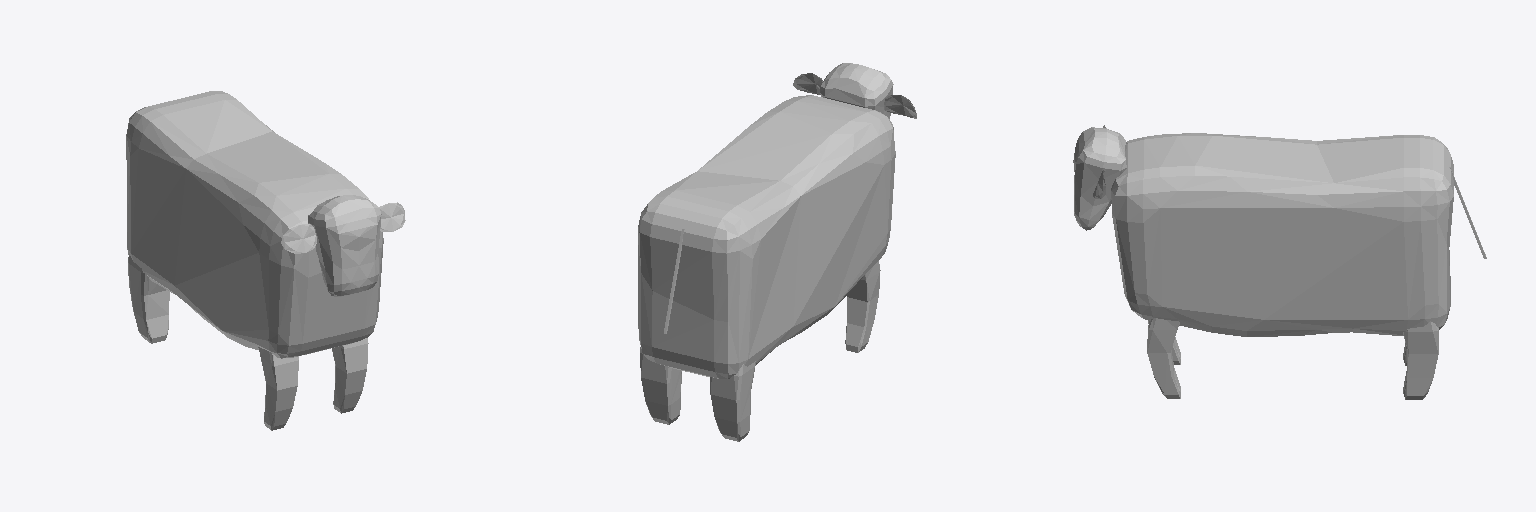
Rendered from cow.obj.
3 renders of one model, left to right at view 1: azimuth 30°, elevation 25°; view 2: azimuth 150°, elevation 25°; view 3: azimuth 270°, elevation 25°, orthographic.
Visible parts, largest first — view 1: Cow; view 2: Cow; view 3: Cow.
Boxes of the visible parts, box(x1,y1,x2,y2) form: Cow: box(126, 91, 405, 430); Cow: box(638, 63, 916, 441); Cow: box(1073, 125, 1486, 399).
Size of the model in its own units: 2.69 by 5.1 by 7.73.